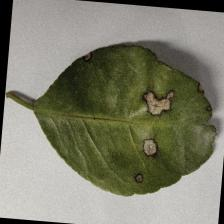canker: (77, 40, 215, 205)
